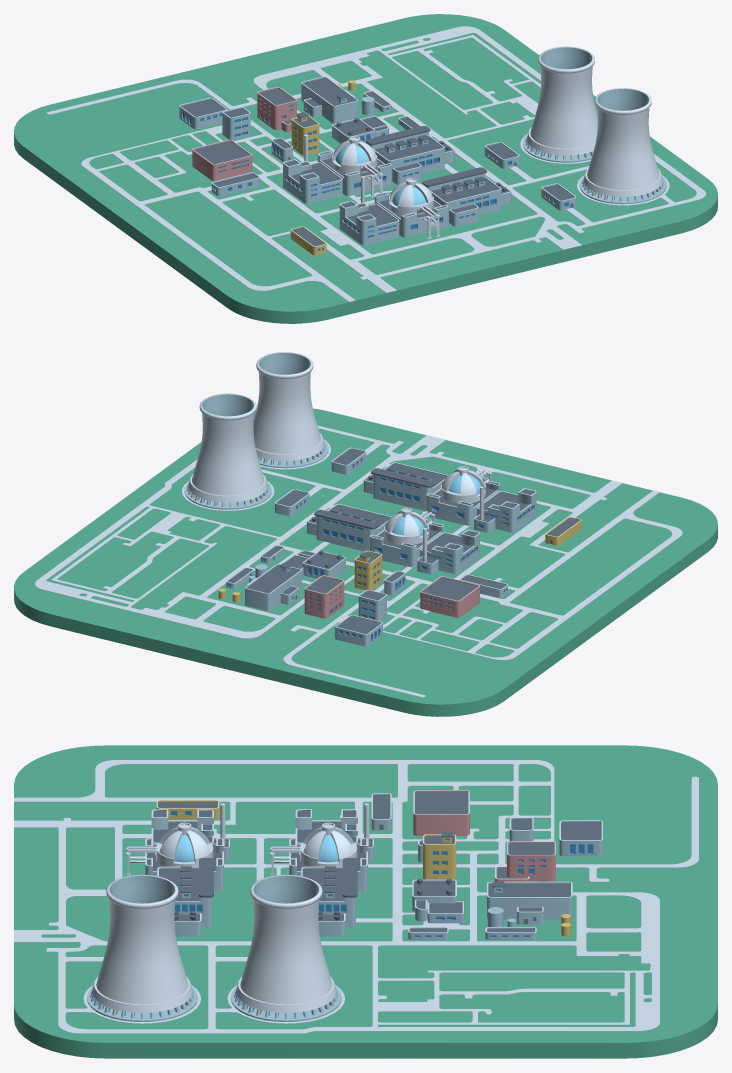
File: nuclear_powerplant_lowpoly_scene.glb
The picture shows the model from 3 angles, top to bottom: view 1: azimuth 30°, elevation 25°; view 2: azimuth 150°, elevation 25°; view 3: azimuth 270°, elevation 25°; orthographic projection. The views are drawn at different scales.
Visible parts, largest first — view 1: ground, roads, tower_1, tower_2, building_02.004, building_02, building_03, building_03.002, building_15, building_21, building_19, building_01 (+12 smaller); view 2: ground, roads, tower_2, tower_1, building_02, building_02.004, building_15, building_03.002, building_03, building_21, building_19, building_01 (+11 smaller); view 3: ground, roads, tower_2, tower_1, building_21, building_15, building_02.004, building_02, dome_1, dome_2, building_19, building_18 (+15 smaller).
Boxes of the visible parts, x1,y1,x2,y2 form: ground: (14,14,717,323); roads: (46,26,705,302); tower_1: (579,88,666,204); tower_2: (523,46,597,162); building_02.004: (365,126,444,180); building_02: (422,167,501,222); building_03: (339,200,399,245); building_03.002: (283,159,342,203); building_15: (192,139,252,181); building_21: (301,76,357,123); building_19: (257,87,296,130); building_01: (374,192,448,237); ground: (14,408,717,716); roads: (35,418,682,697); tower_2: (184,393,271,509); tower_1: (253,352,328,468); building_02: (371,462,448,511); building_02.004: (314,504,391,551); building_15: (420,576,479,617); building_03.002: (420,529,479,574); building_03: (477,488,536,532); building_21: (245,564,301,610); building_19: (304,575,344,618); building_01: (426,480,500,525); ground: (14,745,717,1058); roads: (14,760,698,1033); tower_2: (230,874,341,1021); tower_1: (87,874,197,1021); building_21: (487,881,572,919); building_15: (413,790,469,835); building_02.004: (301,858,357,927); building_02: (157,858,213,927); dome_1: (155,822,213,866); dome_2: (299,822,357,866); building_19: (507,841,555,881); building_18: (559,820,602,856).
Bounding box in the file's own units: 3059 × 599 × 3059.
Materials: 1 (1 with a texture image).
